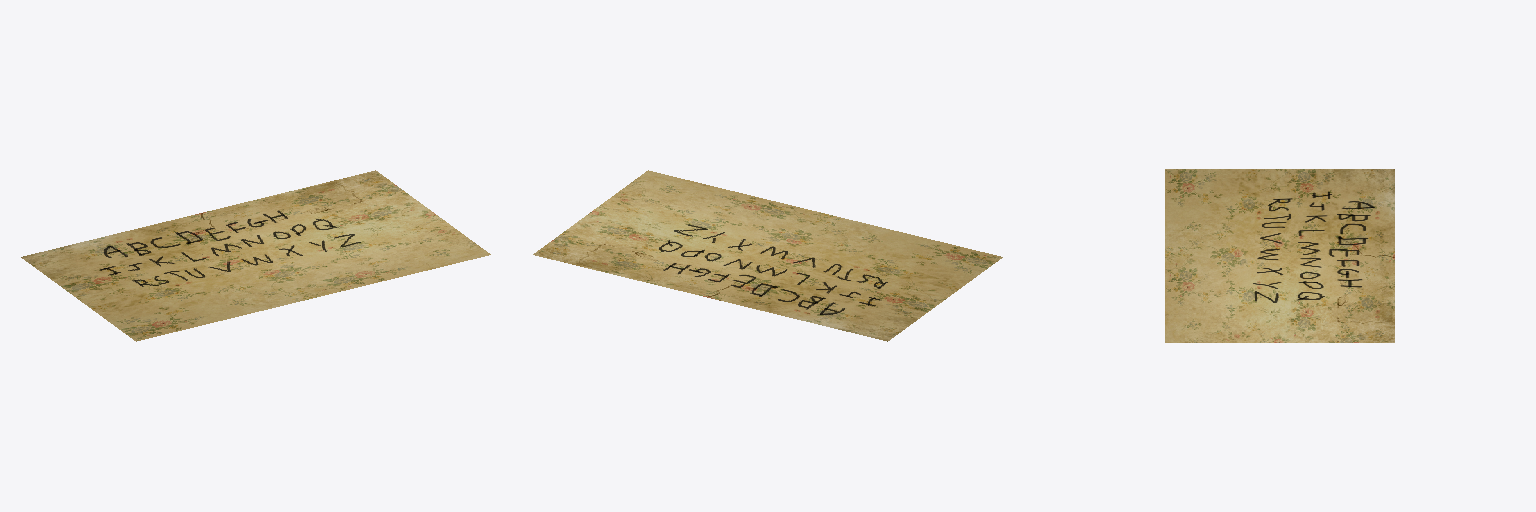
3 views of the same model, side by side, from view 1: azimuth 30°, elevation 25°; view 2: azimuth 150°, elevation 25°; view 3: azimuth 270°, elevation 25° (orthographic).
Parts seen in each view (by area): view 1: Plane; view 2: Plane; view 3: Plane.
Part boxes in pixels (bbox=[...]): Plane: bbox=[21, 170, 490, 341]; Plane: bbox=[533, 170, 1002, 341]; Plane: bbox=[1165, 169, 1394, 342].
Size of the model in its own units: 16 by 0 by 9.
Materials: 1 (1 with a texture image).